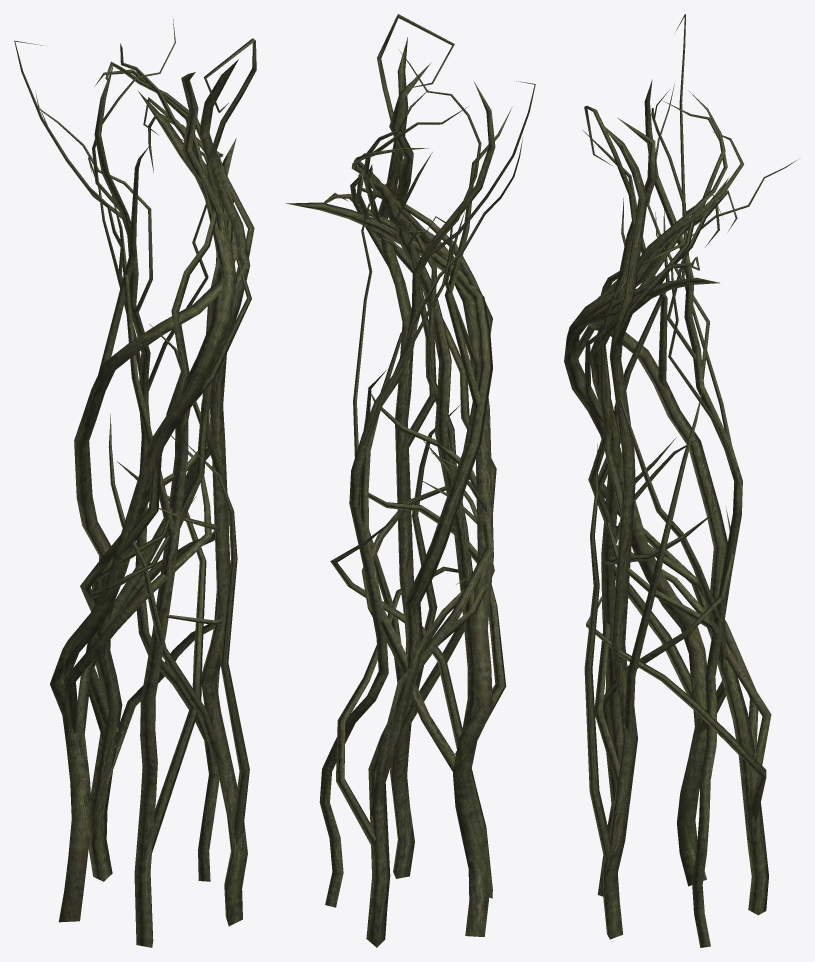
File: Tree_07_1_Liana_L3.fbx
3 renders of one model, left to right at view 1: azimuth 30°, elevation 25°; view 2: azimuth 150°, elevation 25°; view 3: azimuth 270°, elevation 25°, orthographic. The views are drawn at different scales.
Visible parts, largest first — view 1: polySurface68; view 2: polySurface68; view 3: polySurface68.
Part boxes in pixels (box(x1,y1,x2,y2)): polySurface68: box(14, 18, 256, 947); polySurface68: box(285, 14, 535, 947); polySurface68: box(564, 14, 798, 947).
Bounding box in the file's own units: 706 × 2508 × 640.
